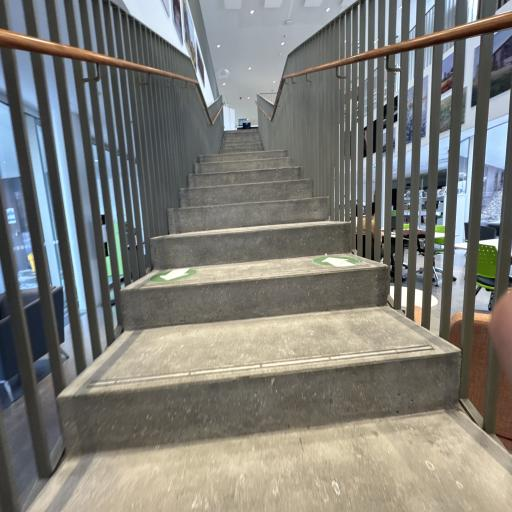Stairs: (30, 129, 512, 512), (59, 290, 460, 454), (30, 409, 512, 512), (151, 220, 350, 270)
